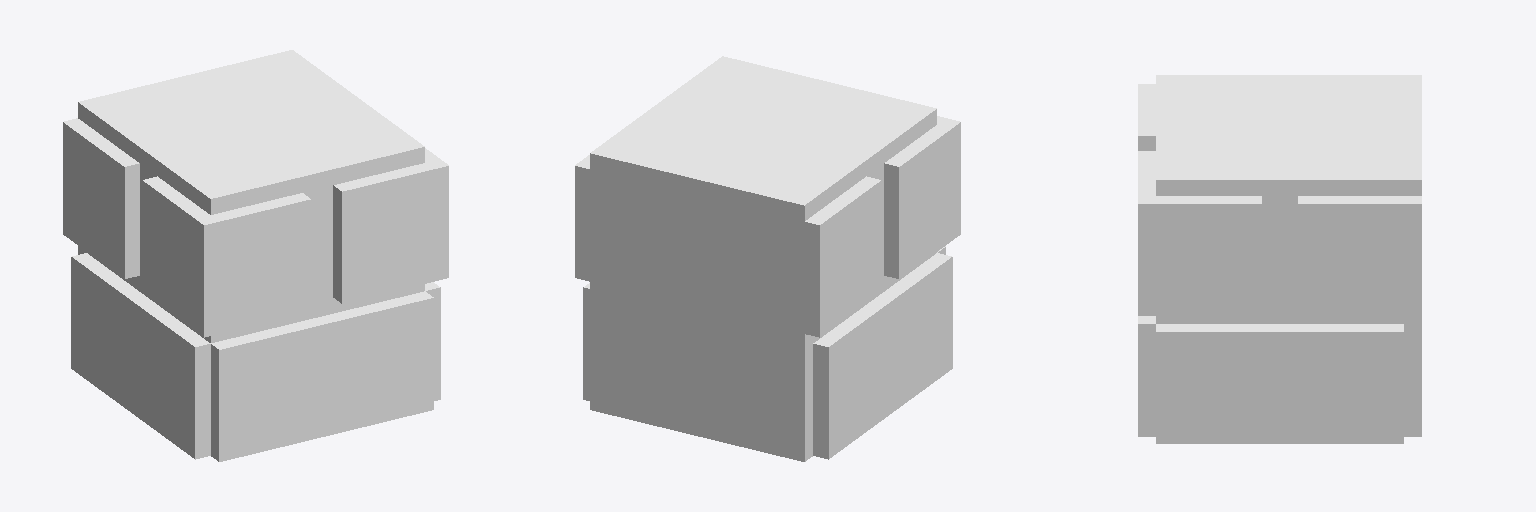
The model's file is Dungeon-5-Wall-3sides.obj.
3 renders of one model, left to right at view 1: azimuth 30°, elevation 25°; view 2: azimuth 150°, elevation 25°; view 3: azimuth 270°, elevation 25°, orthographic.
Visible parts, largest first — view 1: Wall-3sides; view 2: Wall-3sides; view 3: Wall-3sides.
Part boxes in pixels (x1,y1,x2,y2): Wall-3sides: (63,50,448,461); Wall-3sides: (575,56,960,461); Wall-3sides: (1138,75,1421,443).
Bounding box in the file's own units: 1.6 × 1.6 × 1.6.